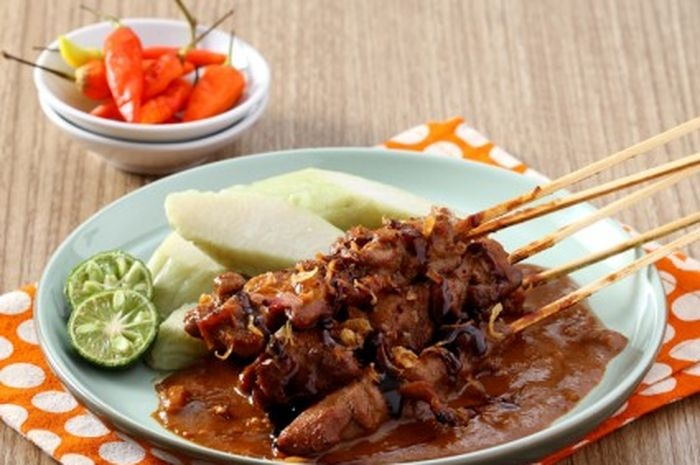sate_madura: (178, 196, 700, 461)
